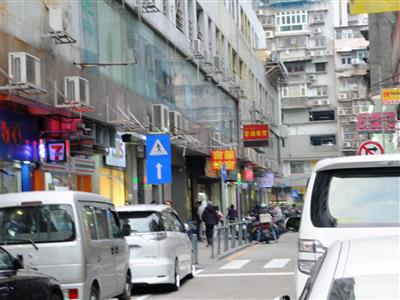oneway: (144, 155, 173, 185)
pedestrianCrossing: (143, 131, 171, 157)
